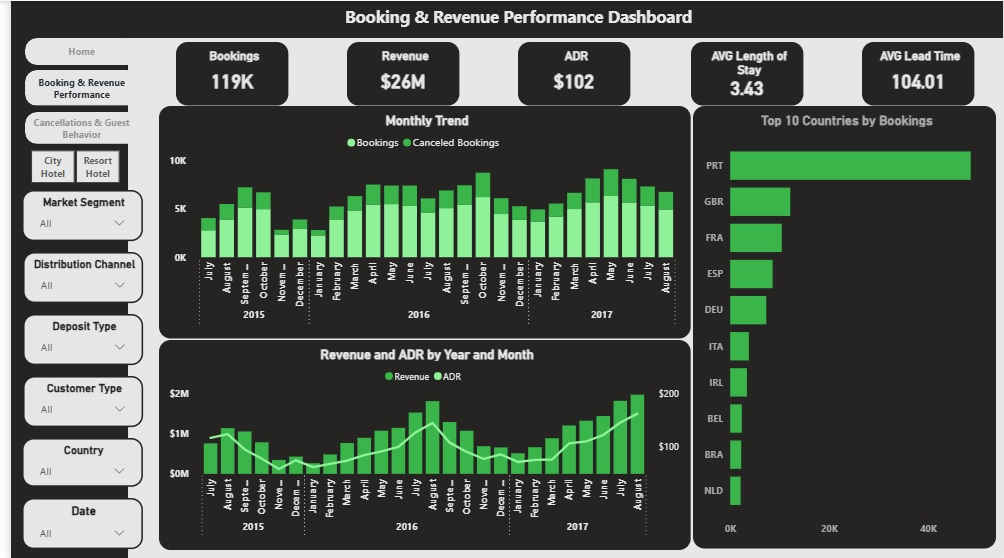

The page's visual inventory and layout, read from the dashboard file:
{"tool":"powerbi","page":{"name":"Booking & Revenue Performance","canvas":[1280,720],"ordinal":1},"visuals":[{"type":"shape","box":[0,0,1280,47.7],"z":0},{"type":"shape","box":[0,0,151.1,720],"z":1000},{"type":"card","title":"Bookings","fields":{"Values":["Dax_Measures.Bookings"]},"box":[212.6,52.4,144.6,82.2],"z":2000},{"type":"slicer","title":"Date","fields":{"Values":["Date.Year","Date.Month No"]},"box":[14.6,641.4,155.5,66.1],"z":3000},{"type":"textbox","box":[425.8,0,483.9,47.7],"z":4000},{"type":"actionButton","box":[18.6,47.7,146.6,34.9],"z":5000},{"type":"actionButton","box":[18.6,89.1,146.6,46.3],"z":6000},{"type":"actionButton","box":[18.6,143.1,146.6,41.1],"z":7000},{"type":"slicer","title":"Market Segment","fields":{"Values":["hotel_bookings.market_segment"]},"box":[14.6,243.6,155.5,66.1],"z":8000},{"type":"slicer","title":"Distribution Channel","fields":{"Values":["hotel_bookings.distribution_channel"]},"box":[15,323.9,154.8,65.8],"z":9000},{"type":"slicer","title":"Deposit Type","fields":{"Values":["hotel_bookings.deposit_type"]},"box":[15,403.9,154.8,65.8],"z":10000},{"type":"slicer","title":"Customer Type","fields":{"Values":["hotel_bookings.customer_type"]},"box":[15,483.9,154.8,65.8],"z":11000},{"type":"slicer","title":"Country","fields":{"Values":["hotel_bookings.country"]},"box":[14.6,563.9,155.5,63.3],"z":12000},{"type":"slicer","title":"Hotel","fields":{"Values":["hotel_bookings.hotel"]},"box":[0,186,164,50],"z":13000},{"type":"card","title":"Revenue","fields":{"Values":["Dax_Measures.Revenue"]},"box":[433.7,52.4,144.6,82.2],"z":14000},{"type":"card","title":"ADR","fields":{"Values":["Dax_Measures.ADR"]},"box":[654.8,52.4,144.6,82.2],"z":15000},{"type":"card","title":"AVG Length of Stay","fields":{"Values":["Dax_Measures.Avg Length of Stay"]},"box":[877.3,52.4,144.6,82.2],"z":16000},{"type":"card","title":"AVG Lead Time","fields":{"Values":["hotel_bookings.Avg Lead Time"]},"box":[1098.4,52.4,144.6,82.2],"z":17000},{"type":"lineStackedColumnComboChart","title":"Monthly Trend","fields":{"Y":["Dax_Measures.Bookings","Dax_Measures.Canceled Bookings"],"Category":["Date.Date.Variation.Date Hierarchy.Year","Date.Date.Variation.Date Hierarchy.Month"]},"box":[191.3,136.1,686,300.5],"z":18000},{"type":"lineStackedColumnComboChart","fields":{"Category":["Date.Date.Variation.Date Hierarchy.Year","Date.Date.Variation.Date Hierarchy.Month"],"Y":["Dax_Measures.Revenue"],"Y2":["Dax_Measures.ADR"]},"box":[191.3,438,686,270.7],"z":19000},{"type":"barChart","title":"Top 10 Countries by Bookings ","fields":{"Category":["hotel_bookings.country"],"Y":["Dax_Measures.Bookings"]},"box":[880.2,136.1,391.4,571.1],"z":20000}]}

Visuals, with their boxes in screenshot pixels (x1, y1, x2, y2), scaled from the page's 1280x720 canvas onto the 1004x558 screenshot:
shape: {"x1": 0, "y1": 0, "x2": 1003, "y2": 37}
shape: {"x1": 0, "y1": 0, "x2": 119, "y2": 557}
"Bookings" card: {"x1": 167, "y1": 41, "x2": 280, "y2": 104}
"Date" slicer: {"x1": 11, "y1": 497, "x2": 133, "y2": 548}
textbox: {"x1": 334, "y1": 0, "x2": 714, "y2": 37}
actionButton: {"x1": 15, "y1": 37, "x2": 130, "y2": 64}
actionButton: {"x1": 15, "y1": 69, "x2": 130, "y2": 105}
actionButton: {"x1": 15, "y1": 111, "x2": 130, "y2": 143}
"Market Segment" slicer: {"x1": 11, "y1": 189, "x2": 133, "y2": 240}
"Distribution Channel" slicer: {"x1": 12, "y1": 251, "x2": 133, "y2": 302}
"Deposit Type" slicer: {"x1": 12, "y1": 313, "x2": 133, "y2": 364}
"Customer Type" slicer: {"x1": 12, "y1": 375, "x2": 133, "y2": 426}
"Country" slicer: {"x1": 11, "y1": 437, "x2": 133, "y2": 486}
"Hotel" slicer: {"x1": 0, "y1": 144, "x2": 129, "y2": 183}
"Revenue" card: {"x1": 340, "y1": 41, "x2": 454, "y2": 104}
"ADR" card: {"x1": 514, "y1": 41, "x2": 627, "y2": 104}
"AVG Length of Stay" card: {"x1": 688, "y1": 41, "x2": 802, "y2": 104}
"AVG Lead Time" card: {"x1": 862, "y1": 41, "x2": 975, "y2": 104}
"Monthly Trend" lineStackedColumnComboChart: {"x1": 150, "y1": 105, "x2": 688, "y2": 338}
lineStackedColumnComboChart - Date.Date.Variation.Date Hierarchy.Year x Date.Date.Variation.Date Hierarchy.Month: {"x1": 150, "y1": 339, "x2": 688, "y2": 549}
"Top 10 Countries by Bookings " barChart: {"x1": 690, "y1": 105, "x2": 997, "y2": 548}
